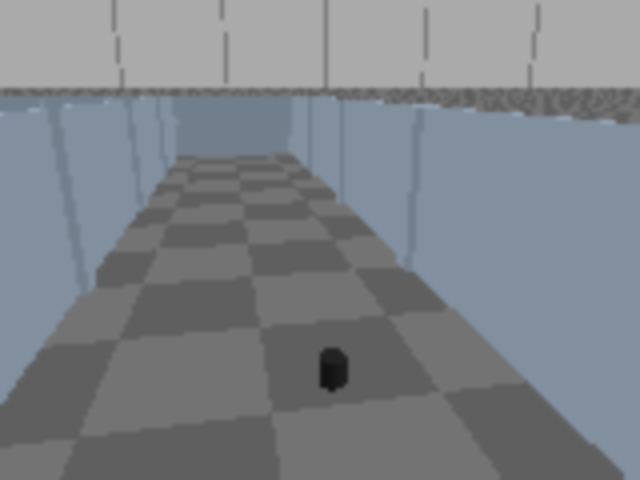puck: (319, 349, 347, 390)
